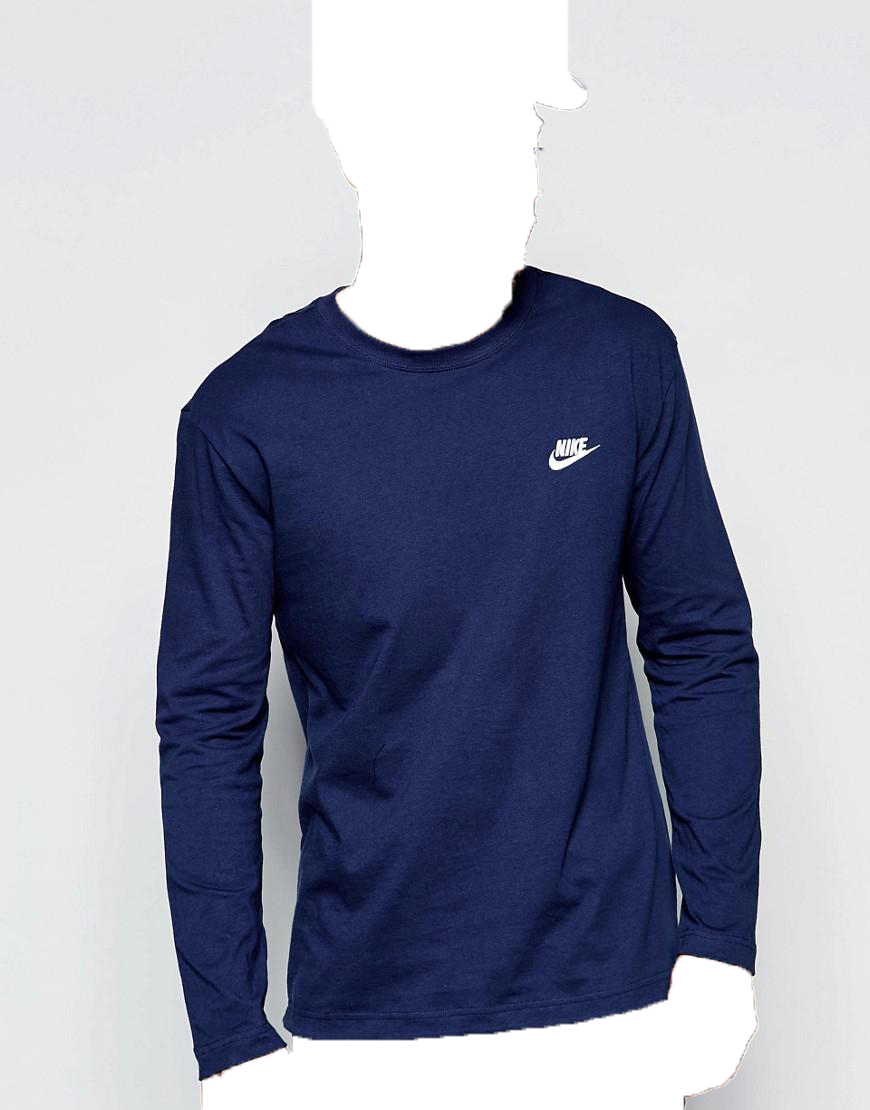teeshirt: (118, 264, 781, 1074)
